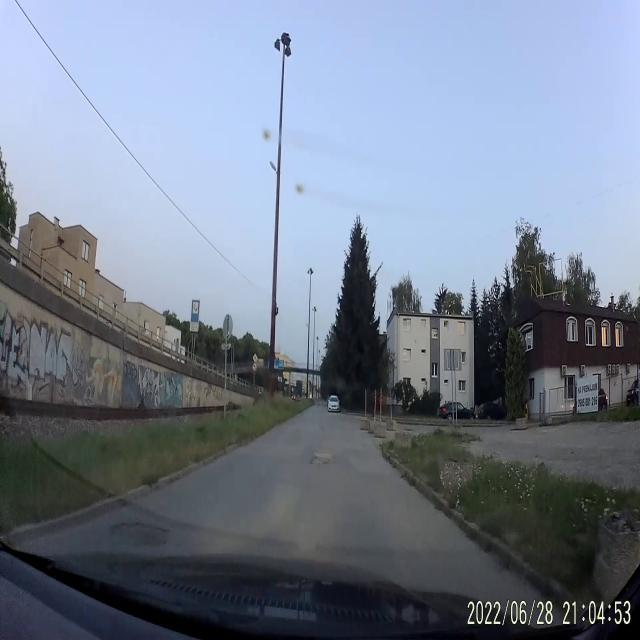Pothole: (112, 522, 168, 552), (306, 449, 334, 469)
